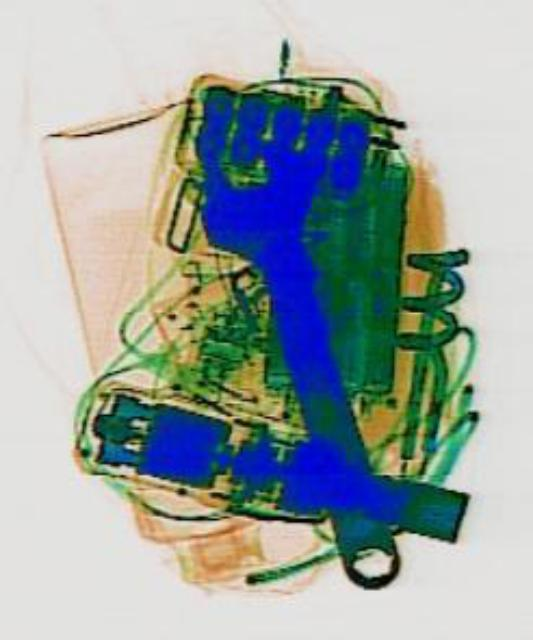Wrench: (180, 118, 433, 608)
